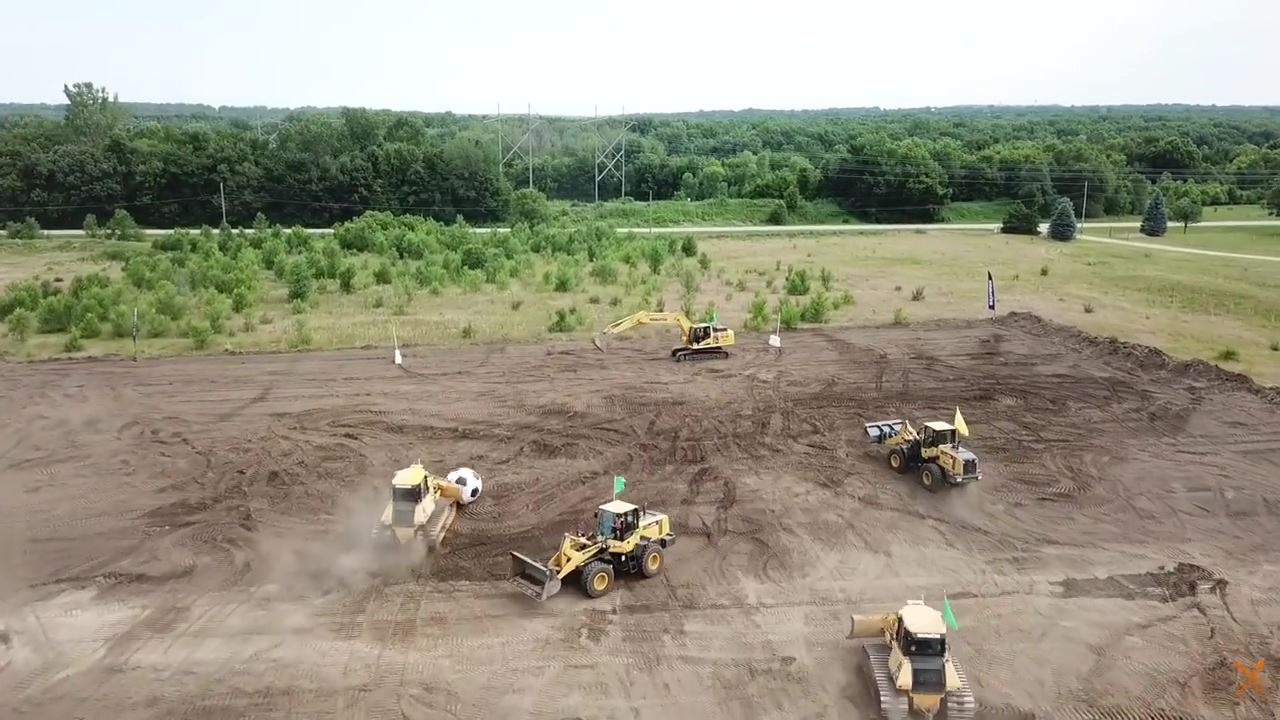con_eq: (506, 495, 678, 607), (832, 598, 984, 717), (362, 457, 461, 573), (864, 411, 983, 490), (590, 303, 738, 365)
